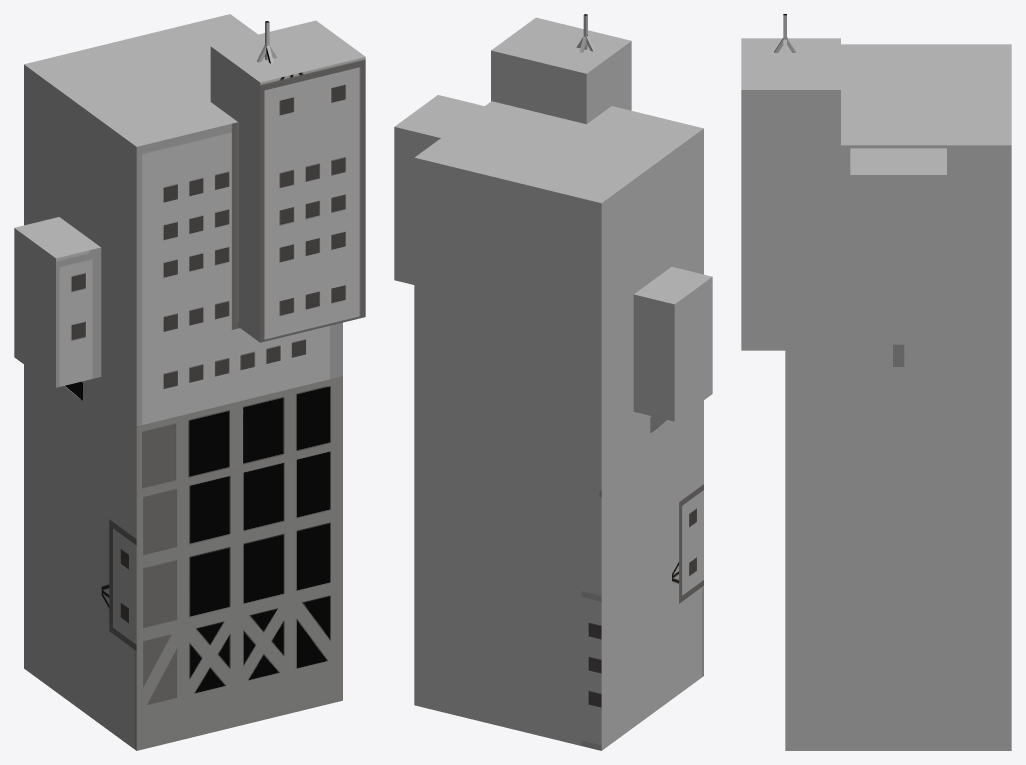
The model's file is blok3.fbx.
The picture shows the model from 3 angles, left to right: view 1: azimuth 30°, elevation 25°; view 2: azimuth 150°, elevation 25°; view 3: azimuth 270°, elevation 25°; orthographic projection. The views are drawn at different scales.
Parts seen in each view (by area): view 1: pCube1, pCube2, pCube4; view 2: pCube1, pCube2, pCube4, pCube3; view 3: pCube1, pCube2, pCube3.
Part boxes in pixels (x1,y1,x2,y2): pCube1: (24,14,342,750); pCube2: (210,20,365,342); pCube4: (14,217,101,387); pCube1: (414,101,703,750); pCube2: (491,17,631,124); pCube4: (633,267,712,421); pCube3: (394,95,484,284); pCube1: (785,44,1011,750); pCube2: (741,38,840,350); pCube3: (850,148,946,344).
Size of the model in its own units: 31.43 by 68.44 by 23.98.
Materials: 1 (1 with a texture image).
